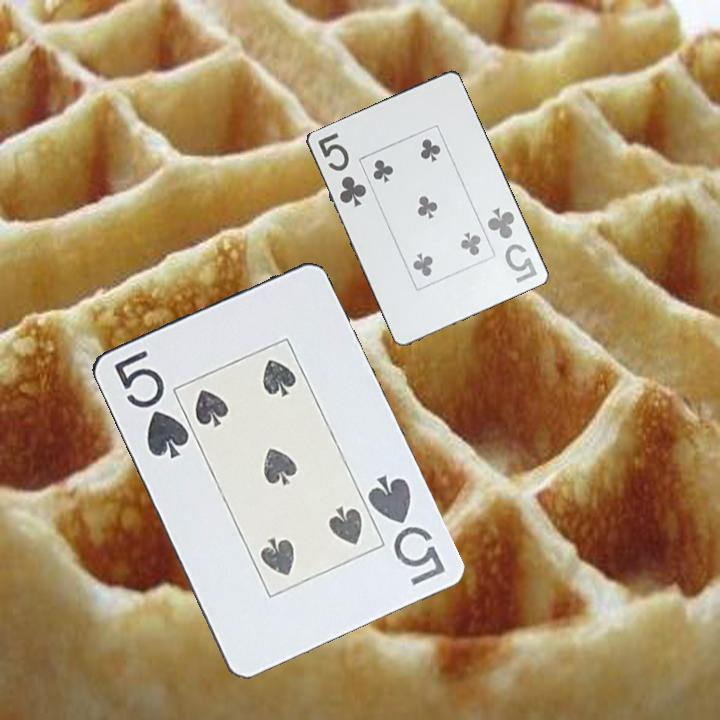5c: (483, 203, 540, 286), (313, 129, 369, 210)
5s: (363, 471, 448, 588), (109, 346, 191, 462)
